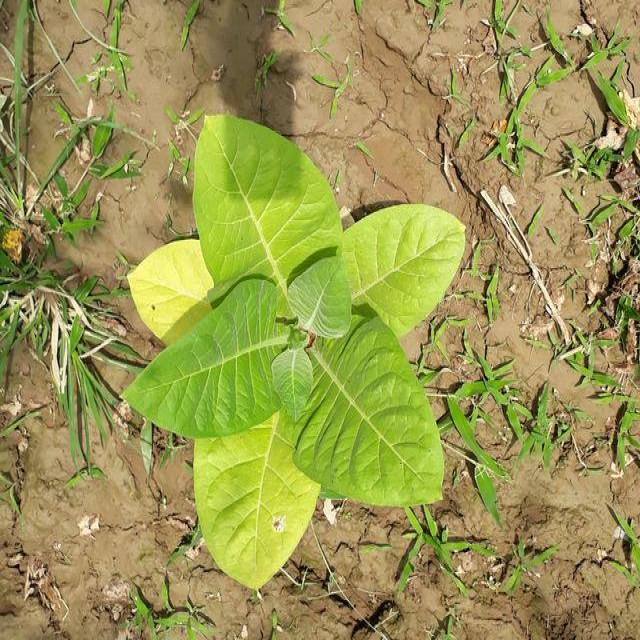crop: (132, 111, 468, 591)
